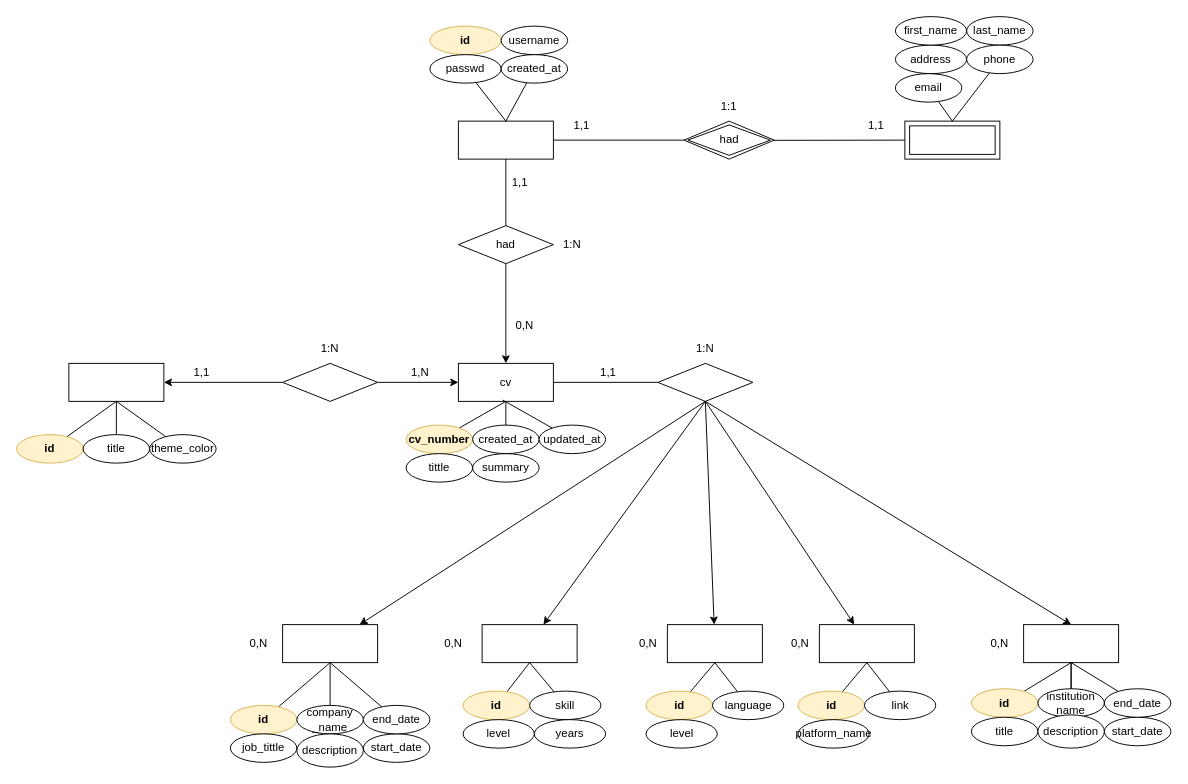
The diagram is 1188 pixels wide and 784 high, and some of its shapes have lost their labels. Each missing label, with the centre of its shape:
"contains" goes at (x=705, y=381).
"cv_educations" goes at (x=1071, y=643).
"cv_experience" goes at (x=330, y=643).
"cv_languages" goes at (x=714, y=643).
"cv_skill" goes at (x=529, y=643).
"cv_social_links" goes at (x=866, y=643).
"cv_template" goes at (x=116, y=381).
"profile" goes at (x=952, y=139).
"use" goes at (x=330, y=381).
"user" goes at (x=505, y=139).
